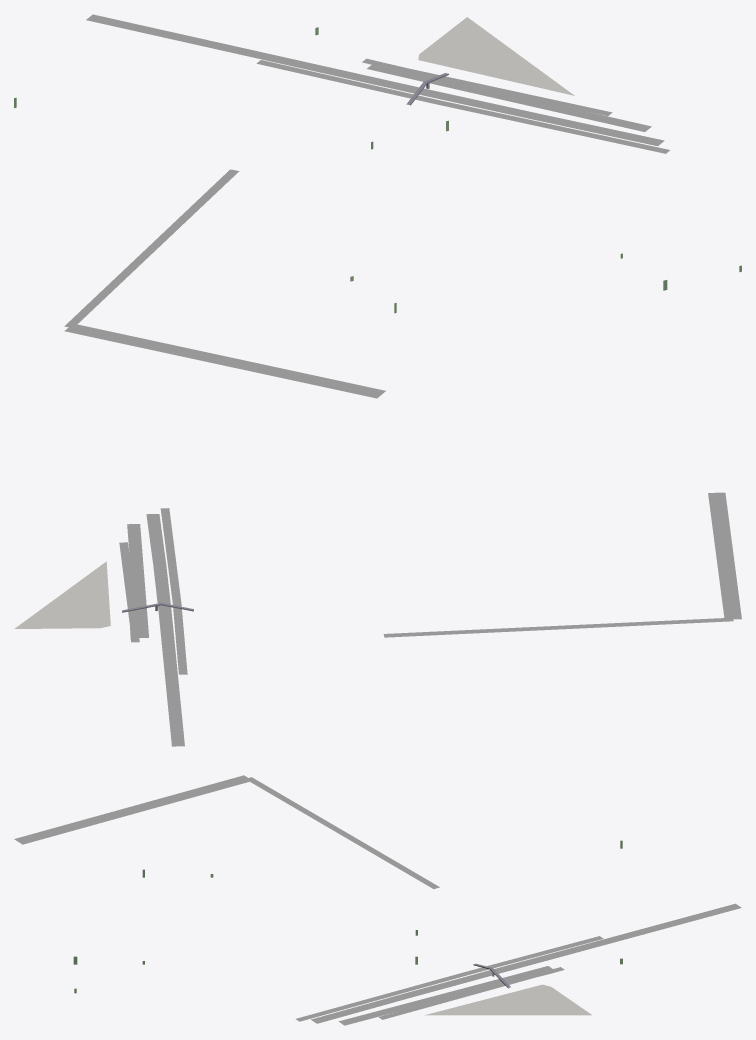
3 renders of one model, top to bottom at view 1: azimuth 30°, elevation 25°; view 2: azimuth 150°, elevation 25°; view 3: azimuth 270°, elevation 25°, orthographic. The views are drawn at different scales.
Bounding box in the file's own units: 519 × 9.51 × 640.
